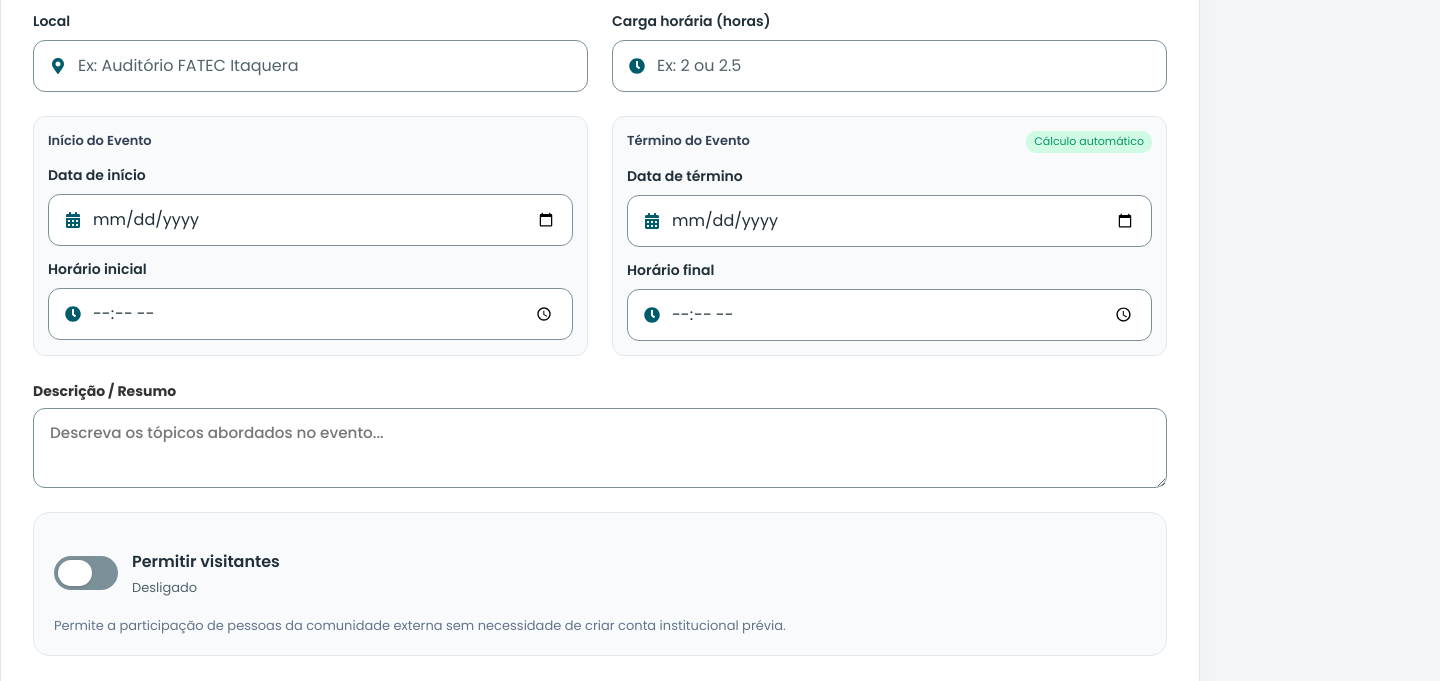
Test case: EventForm component › renders feature switches with their existing defaults and toggles dependent certificate fields
The image size is (1440, 681).
Click the switch labelled "Permitir visitantes": (167, 573) [54,550,280,596]
(page scrolled)
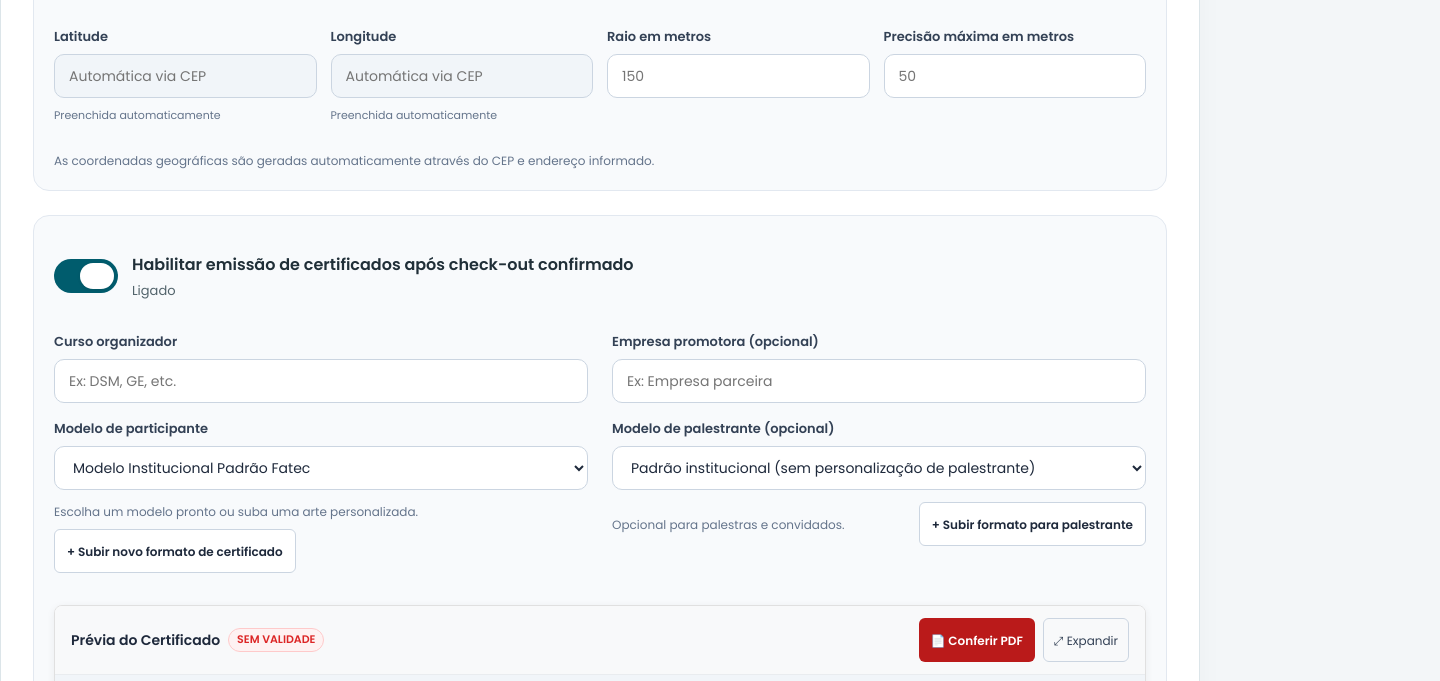
Expected: the field labelled "Curso organizador" is shown, [54,359,588,403]
Click the switch labelled "Habilitar emissão de certificados após check-out confirmado": (344, 276) [54,253,634,300]
(page scrolled)
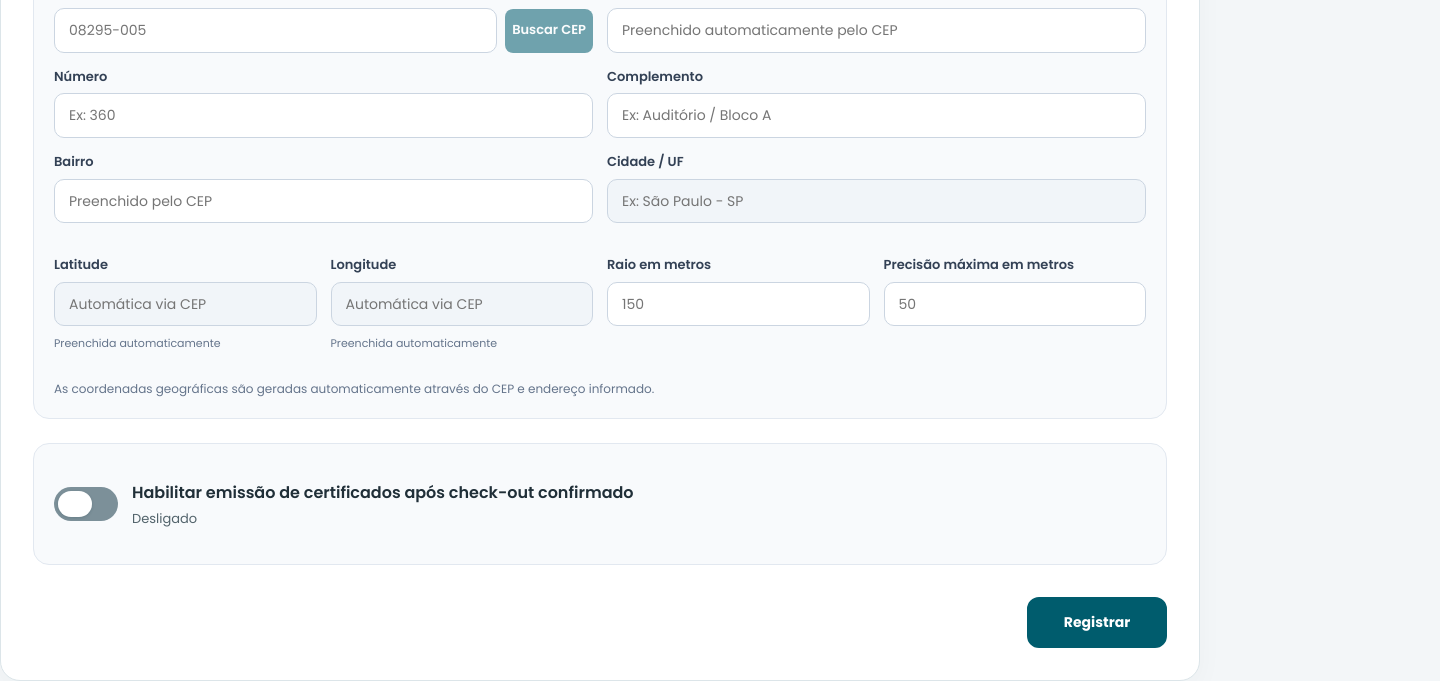
Result: the label labelled "Curso organizador" is gone
Click the switch labelled "Habilitar emissão de certificados após check-out confirmado": (344, 504) [54,481,634,528]
(page scrolled)
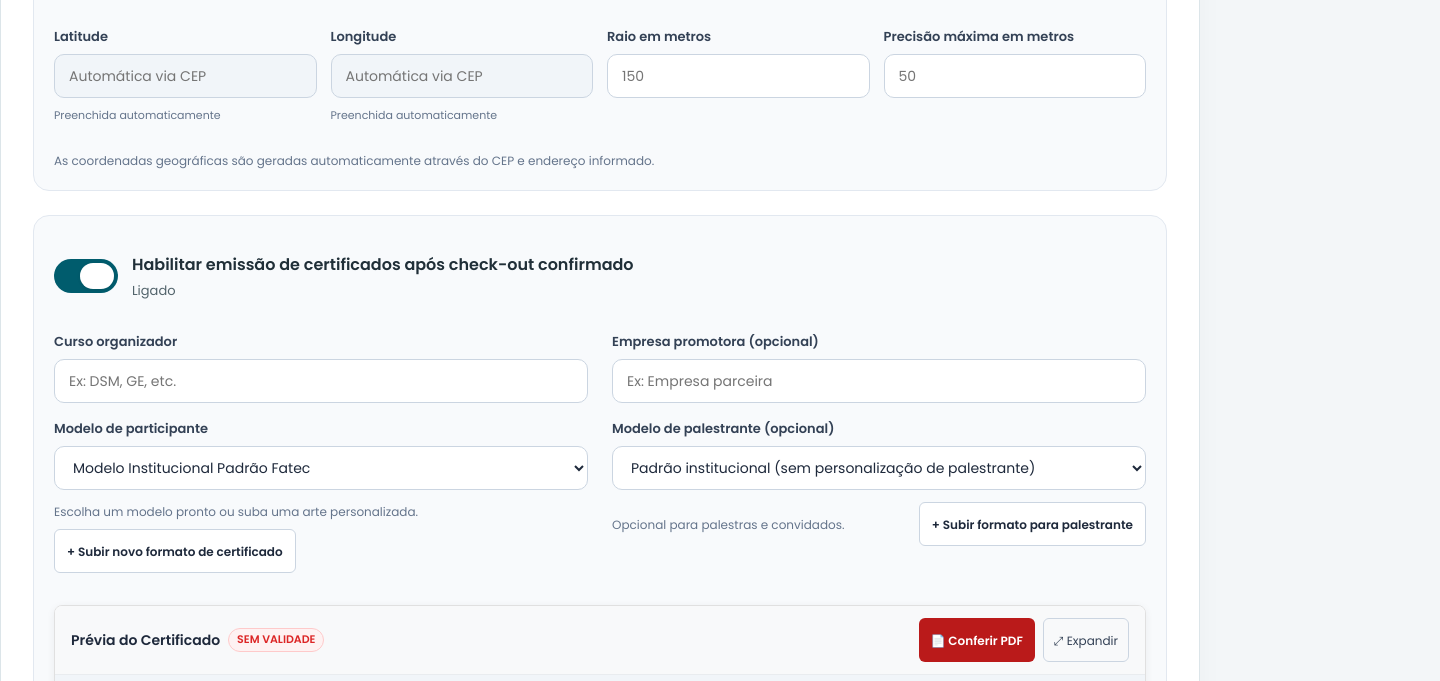
Result: the field labelled "Curso organizador" is shown at [54,359,588,403]
